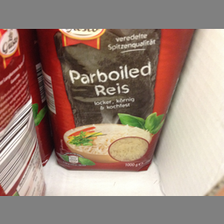rice: (36, 29, 196, 171)
